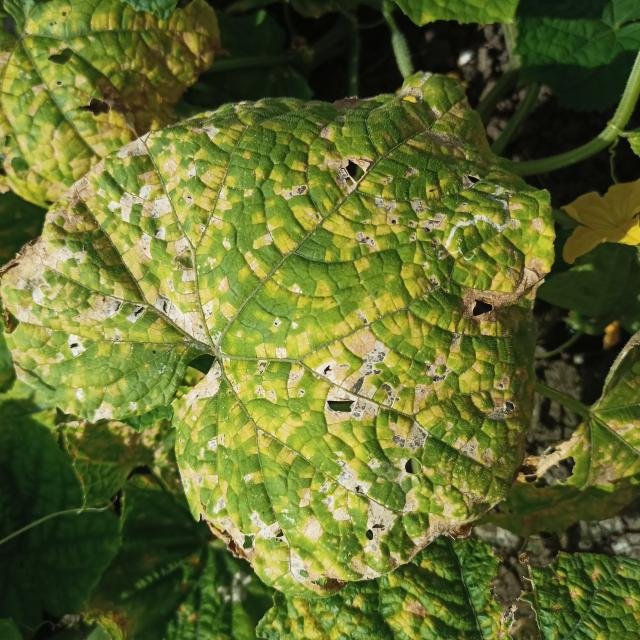disease_cucumber: (3, 74, 554, 577), (0, 0, 218, 203), (281, 570, 453, 640)
